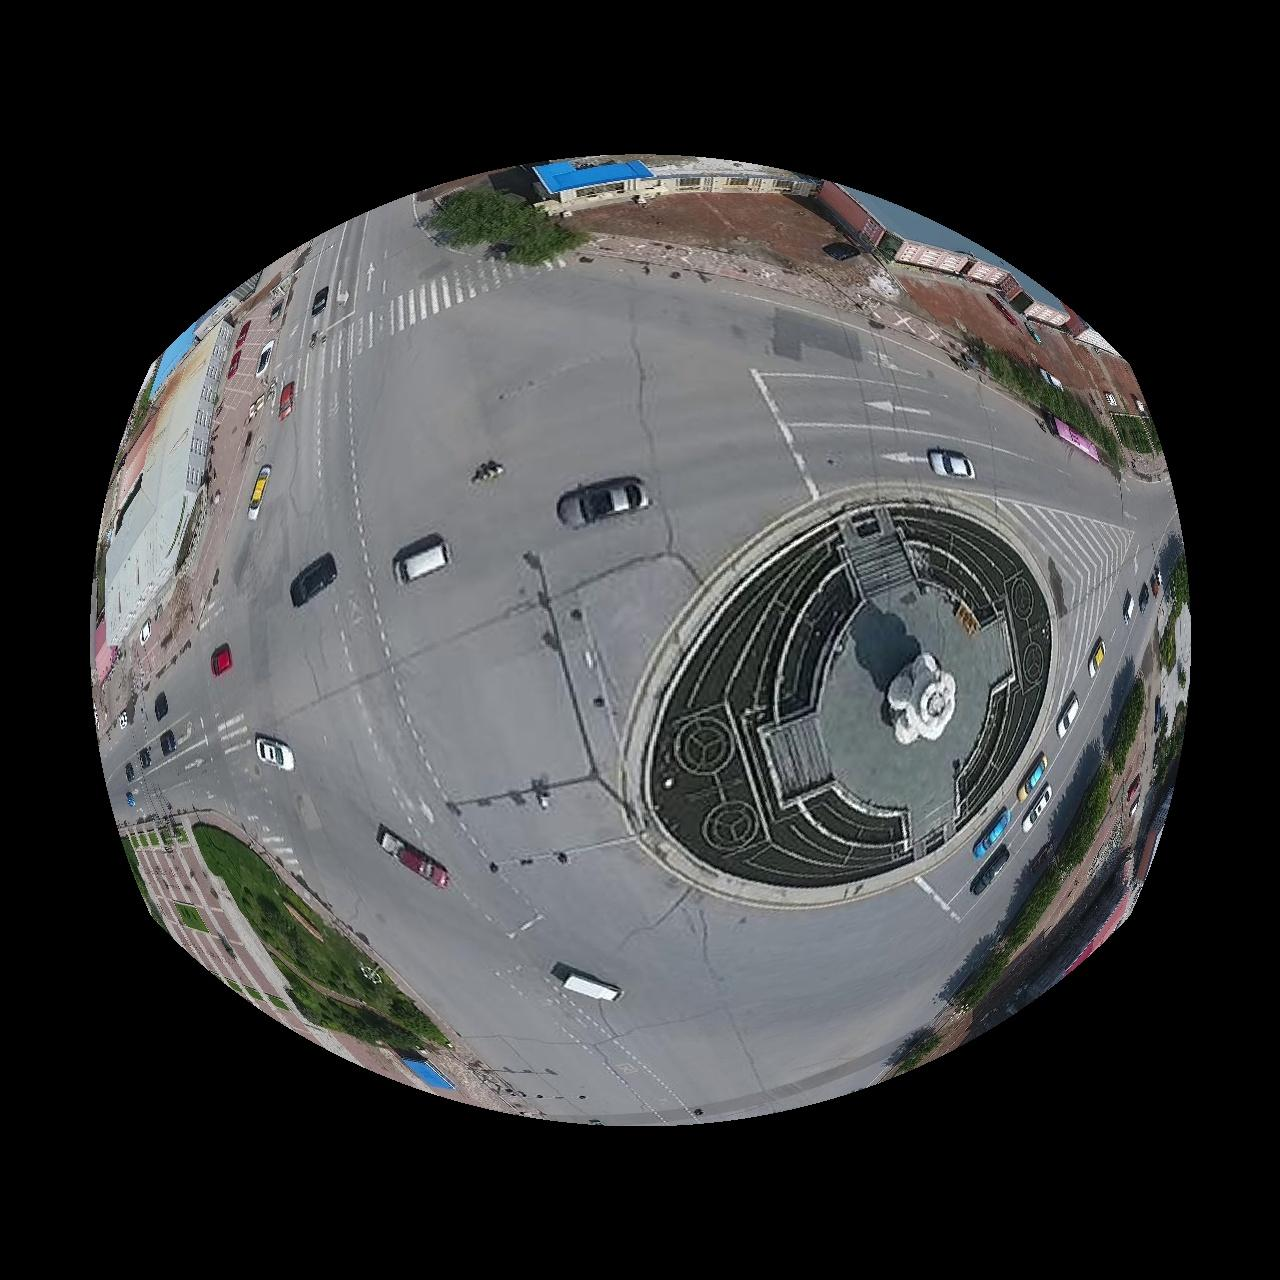building: (815, 181, 1121, 356), (95, 320, 233, 647), (533, 156, 821, 215), (401, 1060, 455, 1091)
cars: (557, 477, 651, 527), (376, 826, 450, 890), (393, 535, 447, 583), (1048, 415, 1102, 462), (290, 554, 336, 606), (971, 846, 1012, 897), (975, 809, 1010, 856), (1019, 753, 1050, 803), (253, 734, 295, 771), (1024, 784, 1054, 833), (930, 447, 976, 477), (565, 978, 622, 1002), (247, 465, 270, 519), (1058, 693, 1082, 740), (209, 644, 232, 676), (1090, 640, 1108, 678), (256, 339, 274, 374), (277, 381, 293, 420), (309, 285, 327, 314), (1125, 592, 1138, 626), (152, 692, 166, 721), (158, 731, 175, 756), (268, 297, 282, 321), (136, 748, 150, 770)
trees: (192, 824, 448, 1054), (967, 334, 1126, 468), (425, 186, 588, 265), (1063, 763, 1116, 870), (954, 942, 1013, 1014), (1019, 869, 1067, 945), (1110, 678, 1148, 775), (884, 1027, 944, 1080), (1115, 413, 1165, 454)
